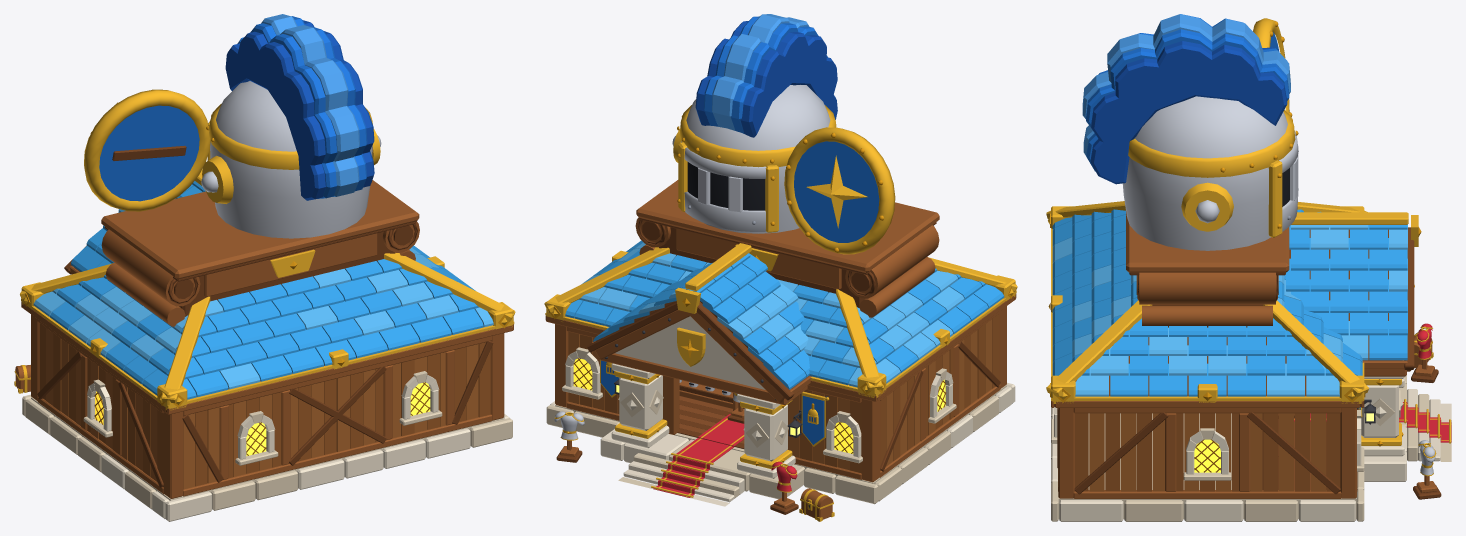
File: your_gear.glb
3 renders of one model, left to right at view 1: azimuth 30°, elevation 25°; view 2: azimuth 150°, elevation 25°; view 3: azimuth 270°, elevation 25°, orthographic. The views are drawn at different scales.
Visible parts, largest first — view 1: roof_shingles_back, landmark_stand, landmark_helmet_plume, wall_planks_back, landmark_shield, landmark_helmet_shell, foundation_blocks, wall_frame_back, roof_shingles_west, wall_planks_west, roof_gold_trim, roof_deck_eaves (+8 smaller); view 2: landmark_stand, landmark_helmet_plume, landmark_shield, roof_shingles_front, gable_roof_shingles_west, roof_shingles_west, gable_beams, wall_planks_west, foundation_blocks, landmark_helmet_shell, landmark_helmet_visor, roof_gold_trim (+27 smaller); view 3: landmark_helmet_plume, wall_planks_east, roof_shingles_east, landmark_helmet_shell, gable_roof_shingles_east, landmark_stand, roof_shingles_back, wall_frame_east, foundation_blocks, landmark_helmet_trim, roof_gold_trim, roof_deck_eaves (+14 smaller).
Part boxes in pixels (box(x1,y1,x2,y2)): roof_shingles_back: box(182, 259, 493, 399); landmark_stand: box(101, 180, 419, 326); landmark_helmet_plume: box(225, 14, 374, 200); wall_planks_back: box(183, 342, 490, 489); landmark_shield: box(84, 89, 209, 211); landmark_helmet_shell: box(210, 81, 372, 238); foundation_blocks: box(22, 394, 512, 521); wall_frame_back: box(182, 336, 493, 496); roof_shingles_west: box(33, 275, 187, 395); wall_planks_west: box(39, 323, 163, 486); roof_gold_trim: box(20, 253, 515, 410); roof_deck_eaves: box(21, 298, 514, 414); landmark_stand: box(635, 180, 939, 317); landmark_helmet_plume: box(695, 14, 837, 137); landmark_shield: box(784, 127, 895, 254); roof_shingles_front: box(565, 253, 862, 387); gable_roof_shingles_west: box(692, 253, 809, 389); roof_shingles_west: box(857, 268, 1004, 383); gable_beams: box(587, 301, 807, 405); wall_planks_west: box(880, 314, 999, 466); foundation_blocks: box(546, 382, 1015, 504); landmark_helmet_shell: box(681, 85, 830, 233); landmark_helmet_visor: box(684, 147, 766, 231); roof_gold_trim: box(544, 247, 1017, 397); landmark_helmet_plume: box(1082, 14, 1290, 184); wall_planks_east: box(1075, 413, 1340, 491); roof_shingles_east: box(1075, 318, 1339, 396); landmark_helmet_shell: box(1122, 96, 1287, 250); gable_roof_shingles_east: box(1286, 224, 1407, 360); landmark_stand: box(1126, 211, 1289, 327); roof_shingles_back: box(1052, 209, 1137, 375); wall_frame_east: box(1073, 408, 1341, 498); foundation_blocks: box(1051, 407, 1364, 521); landmark_helmet_trim: box(1128, 110, 1298, 237); roof_gold_trim: box(1046, 201, 1368, 403); roof_deck_eaves: box(1051, 228, 1364, 407).
Bounding box in the file's own units: 38.83 × 42.06 × 36.21.
